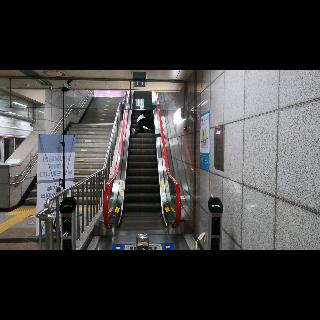anomaly: (128, 102, 162, 136)
